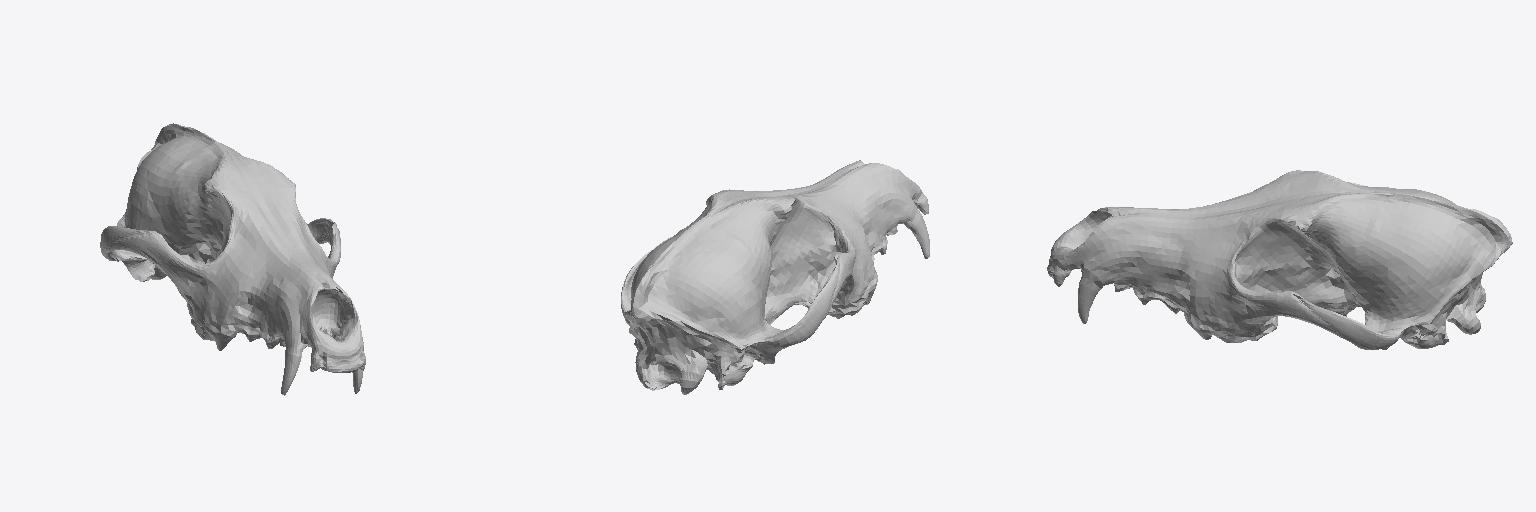
File: Skull_unwrapped_20k_mm.OBJ
3 renders of one model, left to right at view 1: azimuth 30°, elevation 25°; view 2: azimuth 150°, elevation 25°; view 3: azimuth 270°, elevation 25°, orthographic.
Parts seen in each view (by area): view 1: ZBrushPolyMesh3D; view 2: ZBrushPolyMesh3D; view 3: ZBrushPolyMesh3D.
Part boxes in pixels (x1,y1,x2,y2): ZBrushPolyMesh3D: (100,123,365,395); ZBrushPolyMesh3D: (621,160,929,394); ZBrushPolyMesh3D: (1047,170,1512,349).
Size of the model in its own units: 101 by 70.73 by 197.